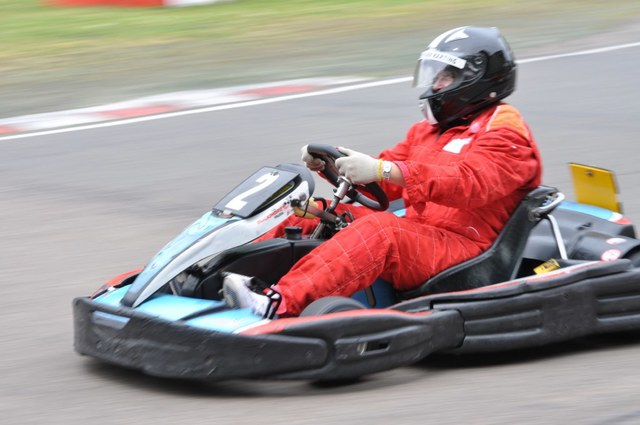helmet: (414, 27, 520, 121)
